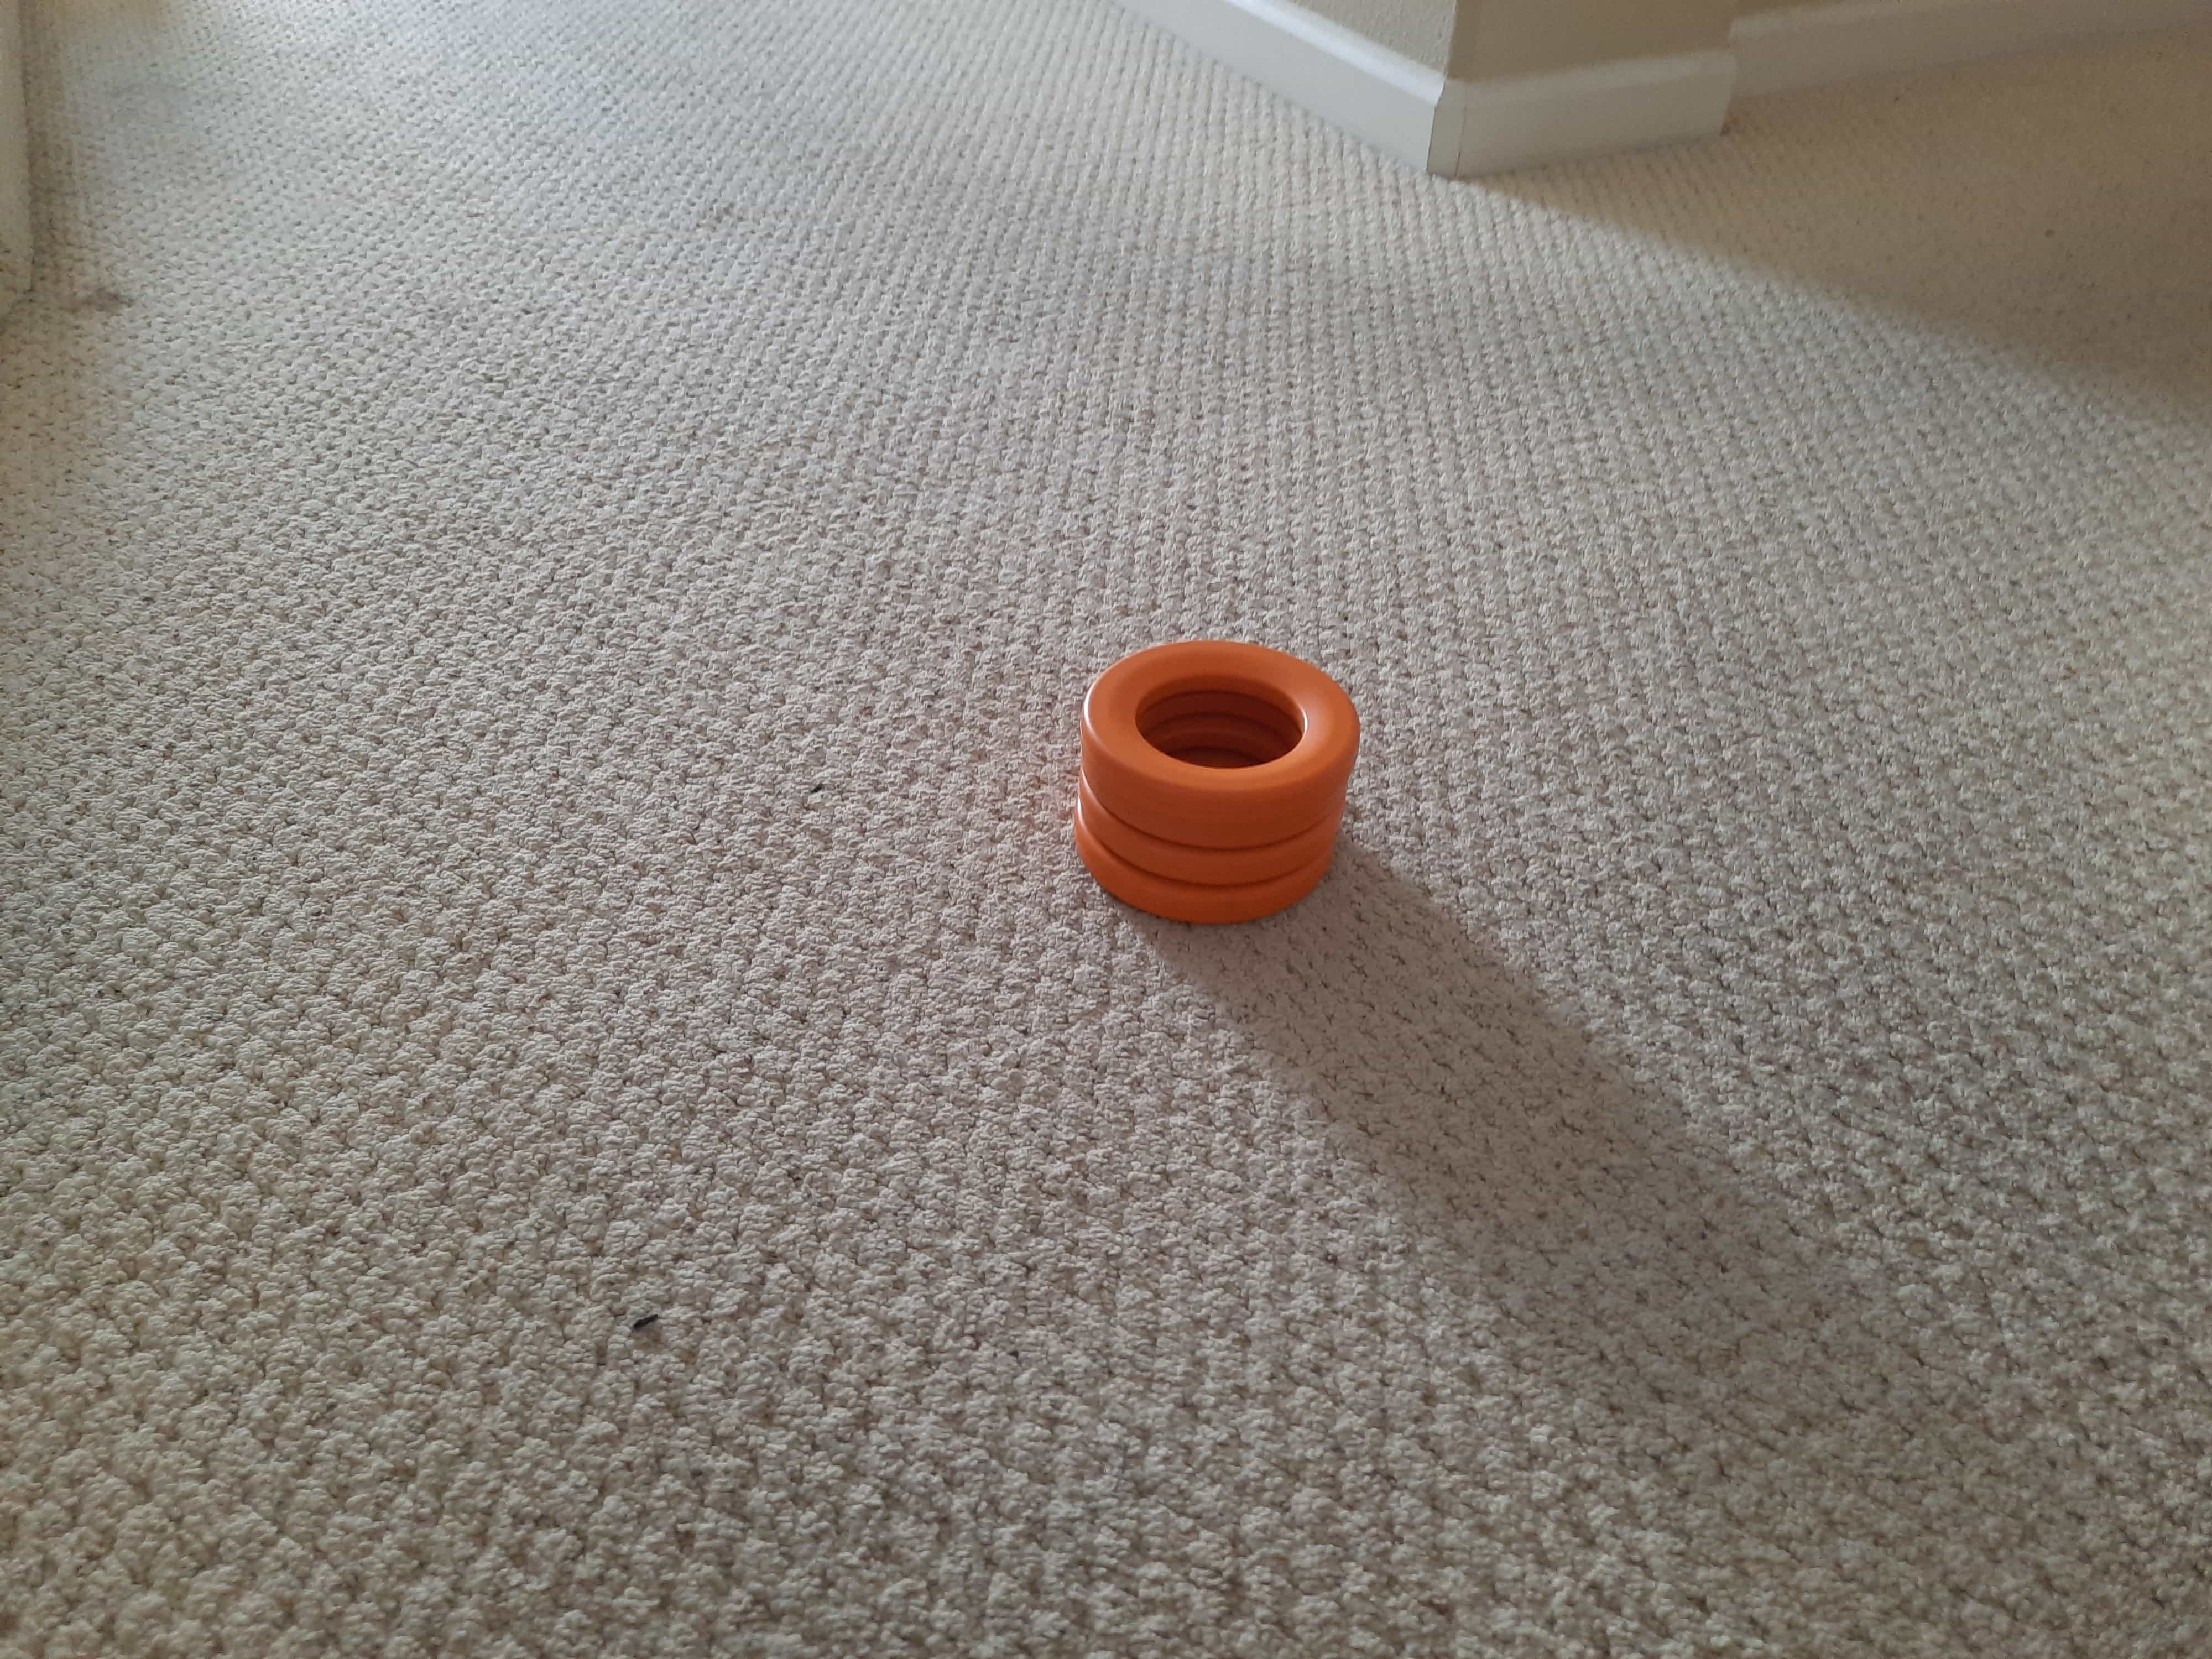FourStack: (1073, 641, 1357, 925)
